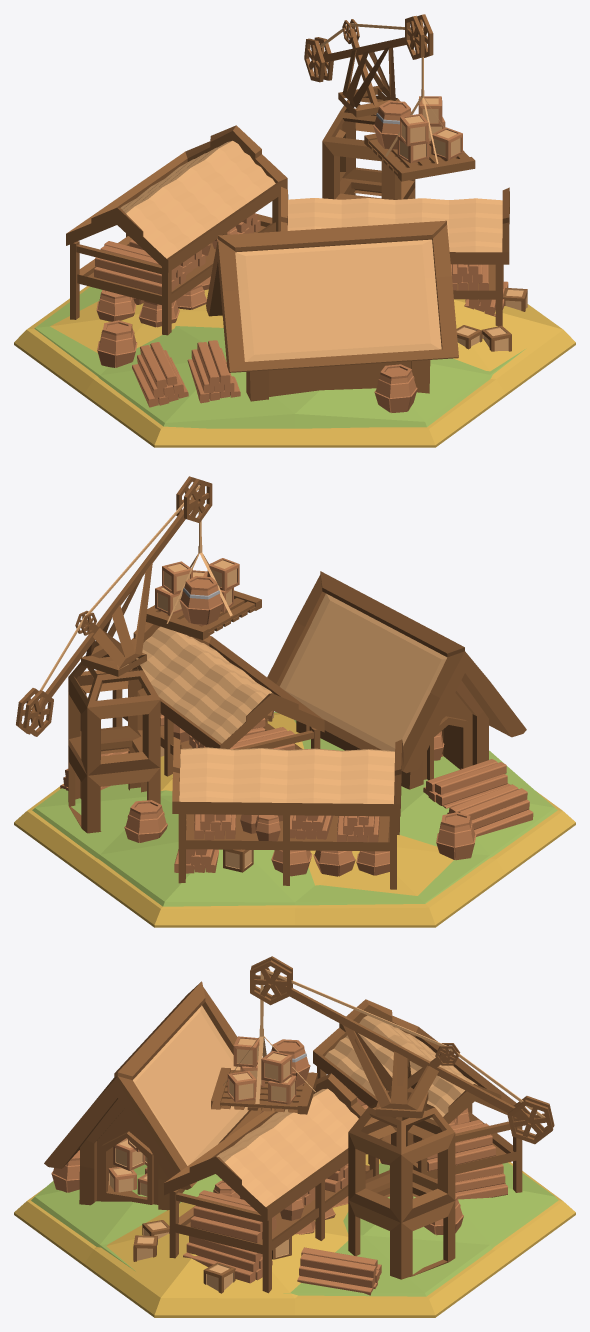
File: storehouse.glb
3 renders of one model, top to bottom at view 1: azimuth 30°, elevation 25°; view 2: azimuth 150°, elevation 25°; view 3: azimuth 270°, elevation 25°, orthographic.
Parts seen in each view (by area): view 1: building, land, animation, big_details; view 2: building, land, animation, big_details; view 3: building, land, animation, big_details.
Part boxes in pixels (left/top/right/bottom): building: left=66, top=95, right=509, bottom=401; land: left=14, top=286, right=575, bottom=447; animation: left=304, top=14, right=475, bottom=181; big_details: left=96, top=276, right=527, bottom=412; building: left=68, top=571, right=526, bottom=889; land: left=14, top=712, right=575, bottom=927; animation: left=16, top=476, right=261, bottom=736; big_details: left=60, top=710, right=533, bottom=876; building: left=44, top=981, right=522, bottom=1293; land: left=14, top=1154, right=575, bottom=1317; animation: left=211, top=956, right=554, bottom=1144; big_details: left=51, top=1072, right=507, bottom=1295.
Size of the model in its own units: 1.73 by 1.22 by 2.
